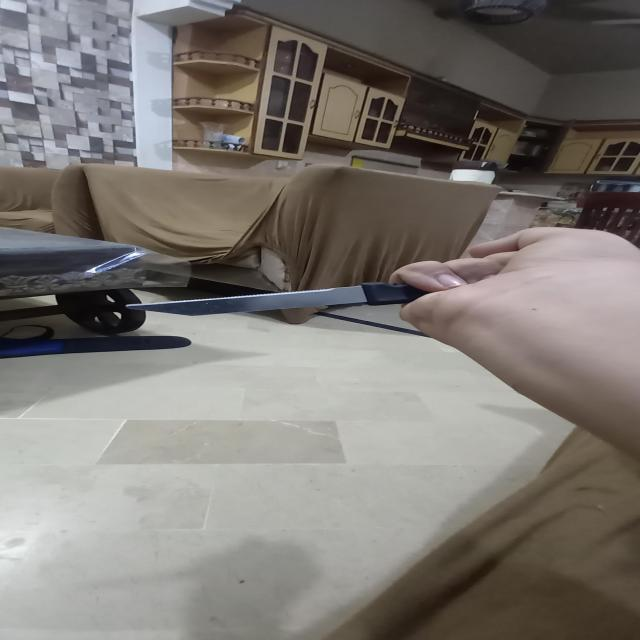Knife: (126, 283, 414, 318)
Person: (391, 225, 640, 459)
